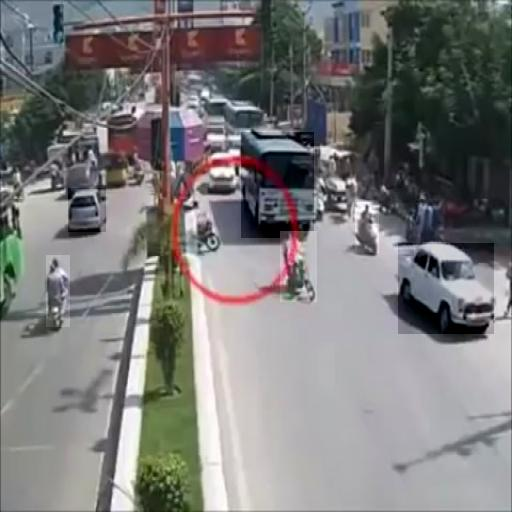小汽车: (398, 243, 494, 334), (241, 132, 314, 238), (68, 188, 106, 232)
自行车: (280, 231, 317, 302), (46, 255, 70, 327), (355, 202, 379, 253)
